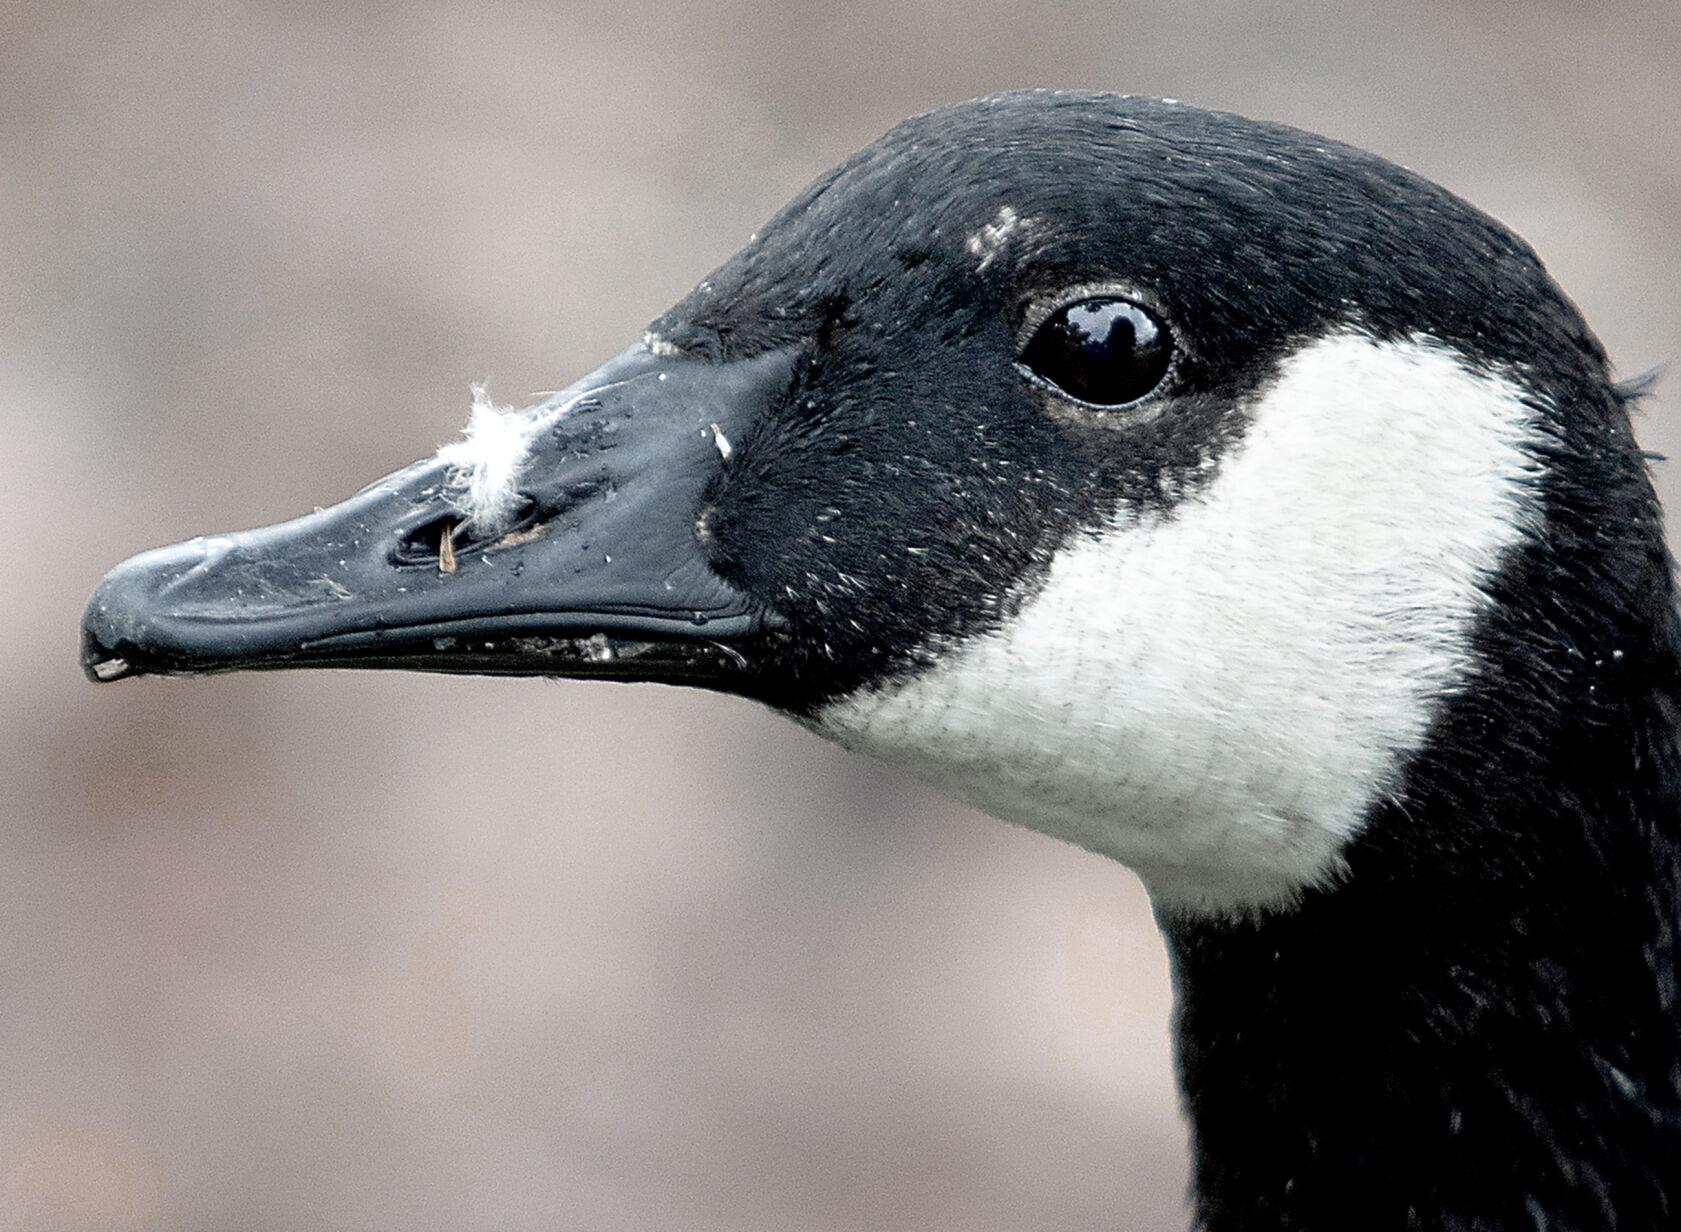Canadian-Goose: (74, 81, 1676, 1232)
